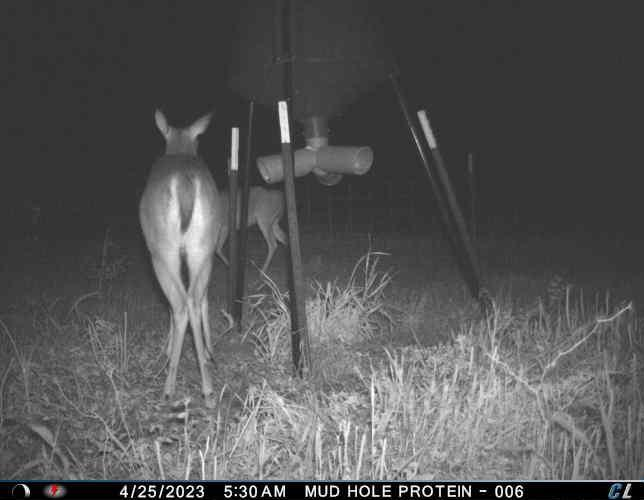Deer: (138, 104, 224, 406), (211, 181, 291, 294)
